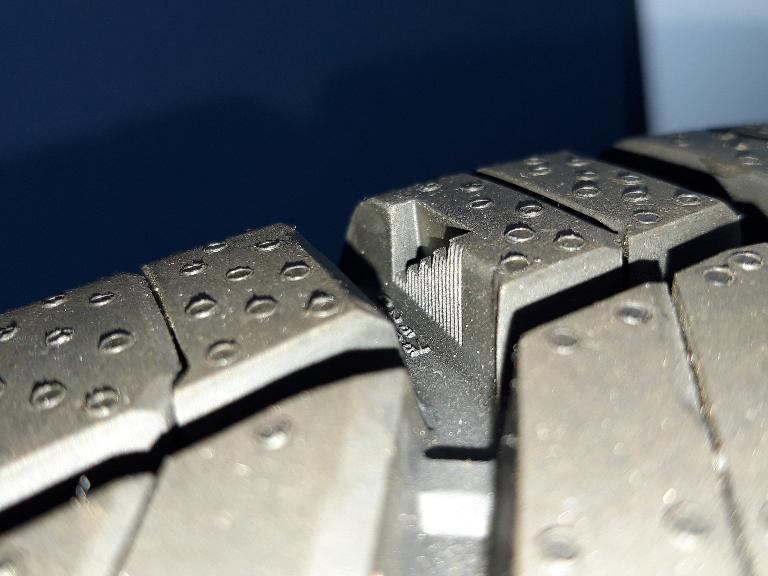temoin:100: (385, 197, 481, 351)
